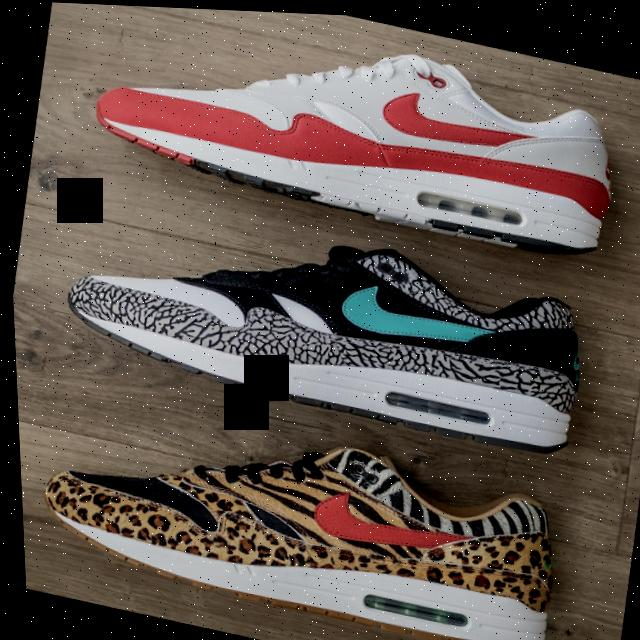shoes: (18, 171, 640, 473), (13, 383, 636, 640), (61, 2, 640, 278)
